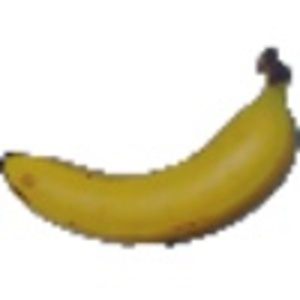banana: (1, 46, 298, 253)
